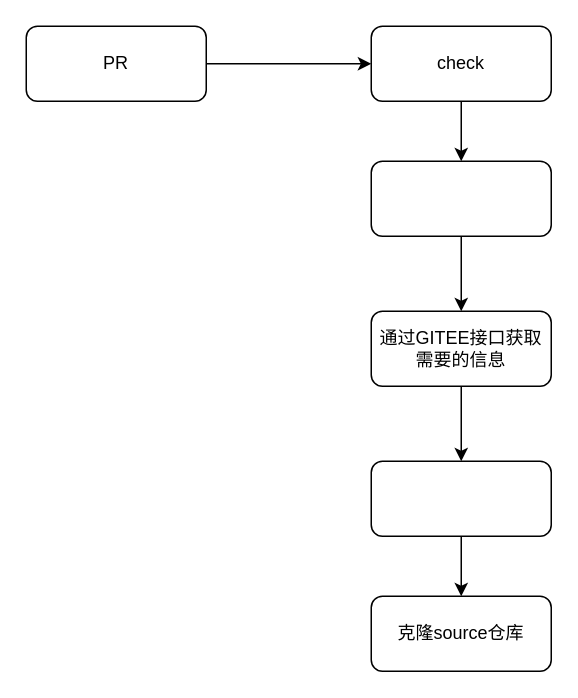
Image size: 578x698. Some labels were removed from this diagram. Here are the shapes that lost their labels. From the top down, the centre of each, then its label:
(460,198): 读取配置文件
(460,498): 克隆target仓库
